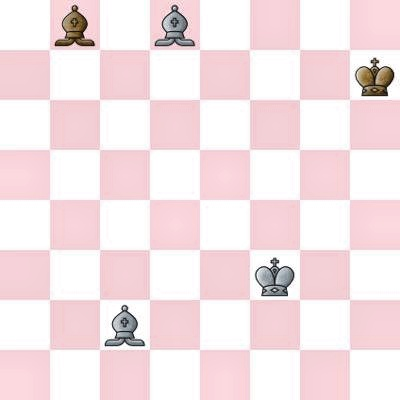black-bishop: (50, 0, 100, 50)
black-king: (350, 50, 400, 100)
white-bishop: (150, 0, 200, 50), (100, 300, 150, 350)
white-king: (250, 250, 300, 300)
